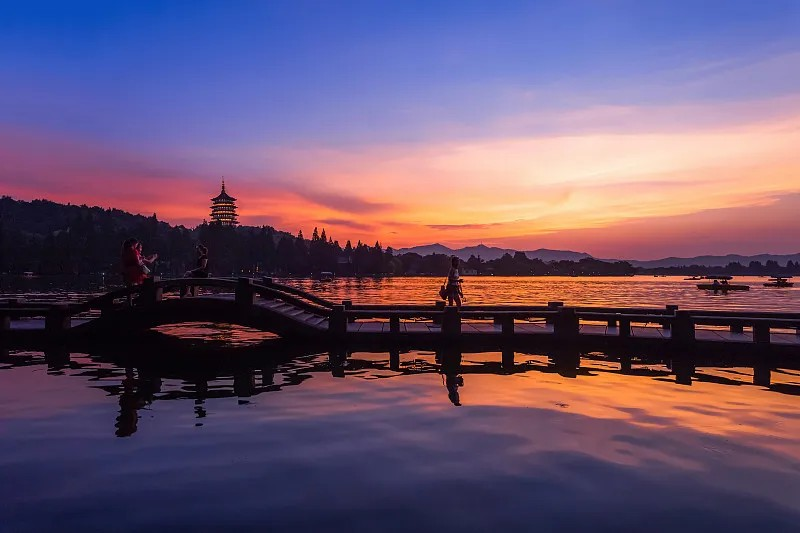Leifeng: (208, 177, 238, 228)
